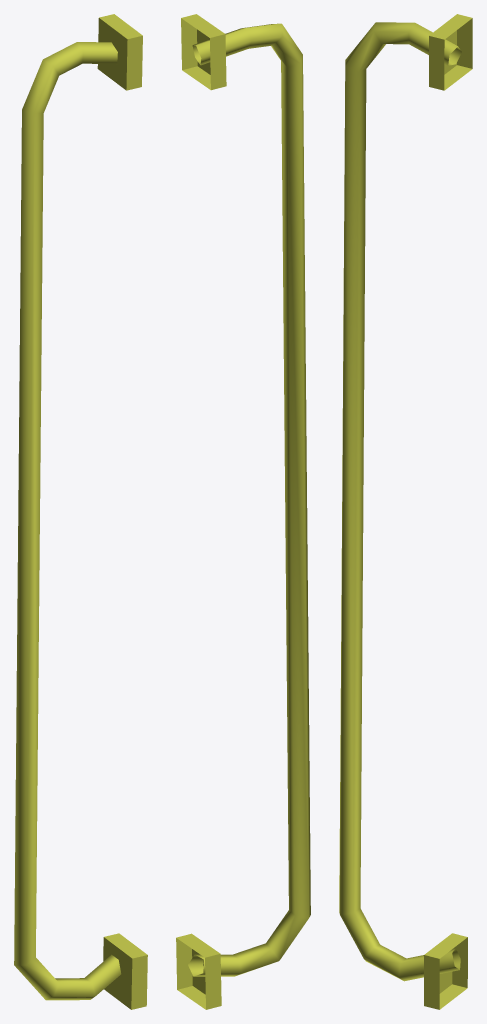
The model's file is vagon handle.FBX.
The picture shows the model from 3 angles, left to right: view 1: azimuth 30°, elevation 25°; view 2: azimuth 210°, elevation 25°; view 3: azimuth 330°, elevation 25°; orthographic projection.
Parts seen in each view (by area): view 1: Object1190; view 2: Object1190; view 3: Object1190.
Part boxes in pixels (<box>): Object1190: <box>14,14,147,1009</box>; Object1190: <box>176,14,310,1009</box>; Object1190: <box>339,14,472,1009</box>.
Bounding box in the file's own units: 0.1481 × 1.15 × 0.0732.
